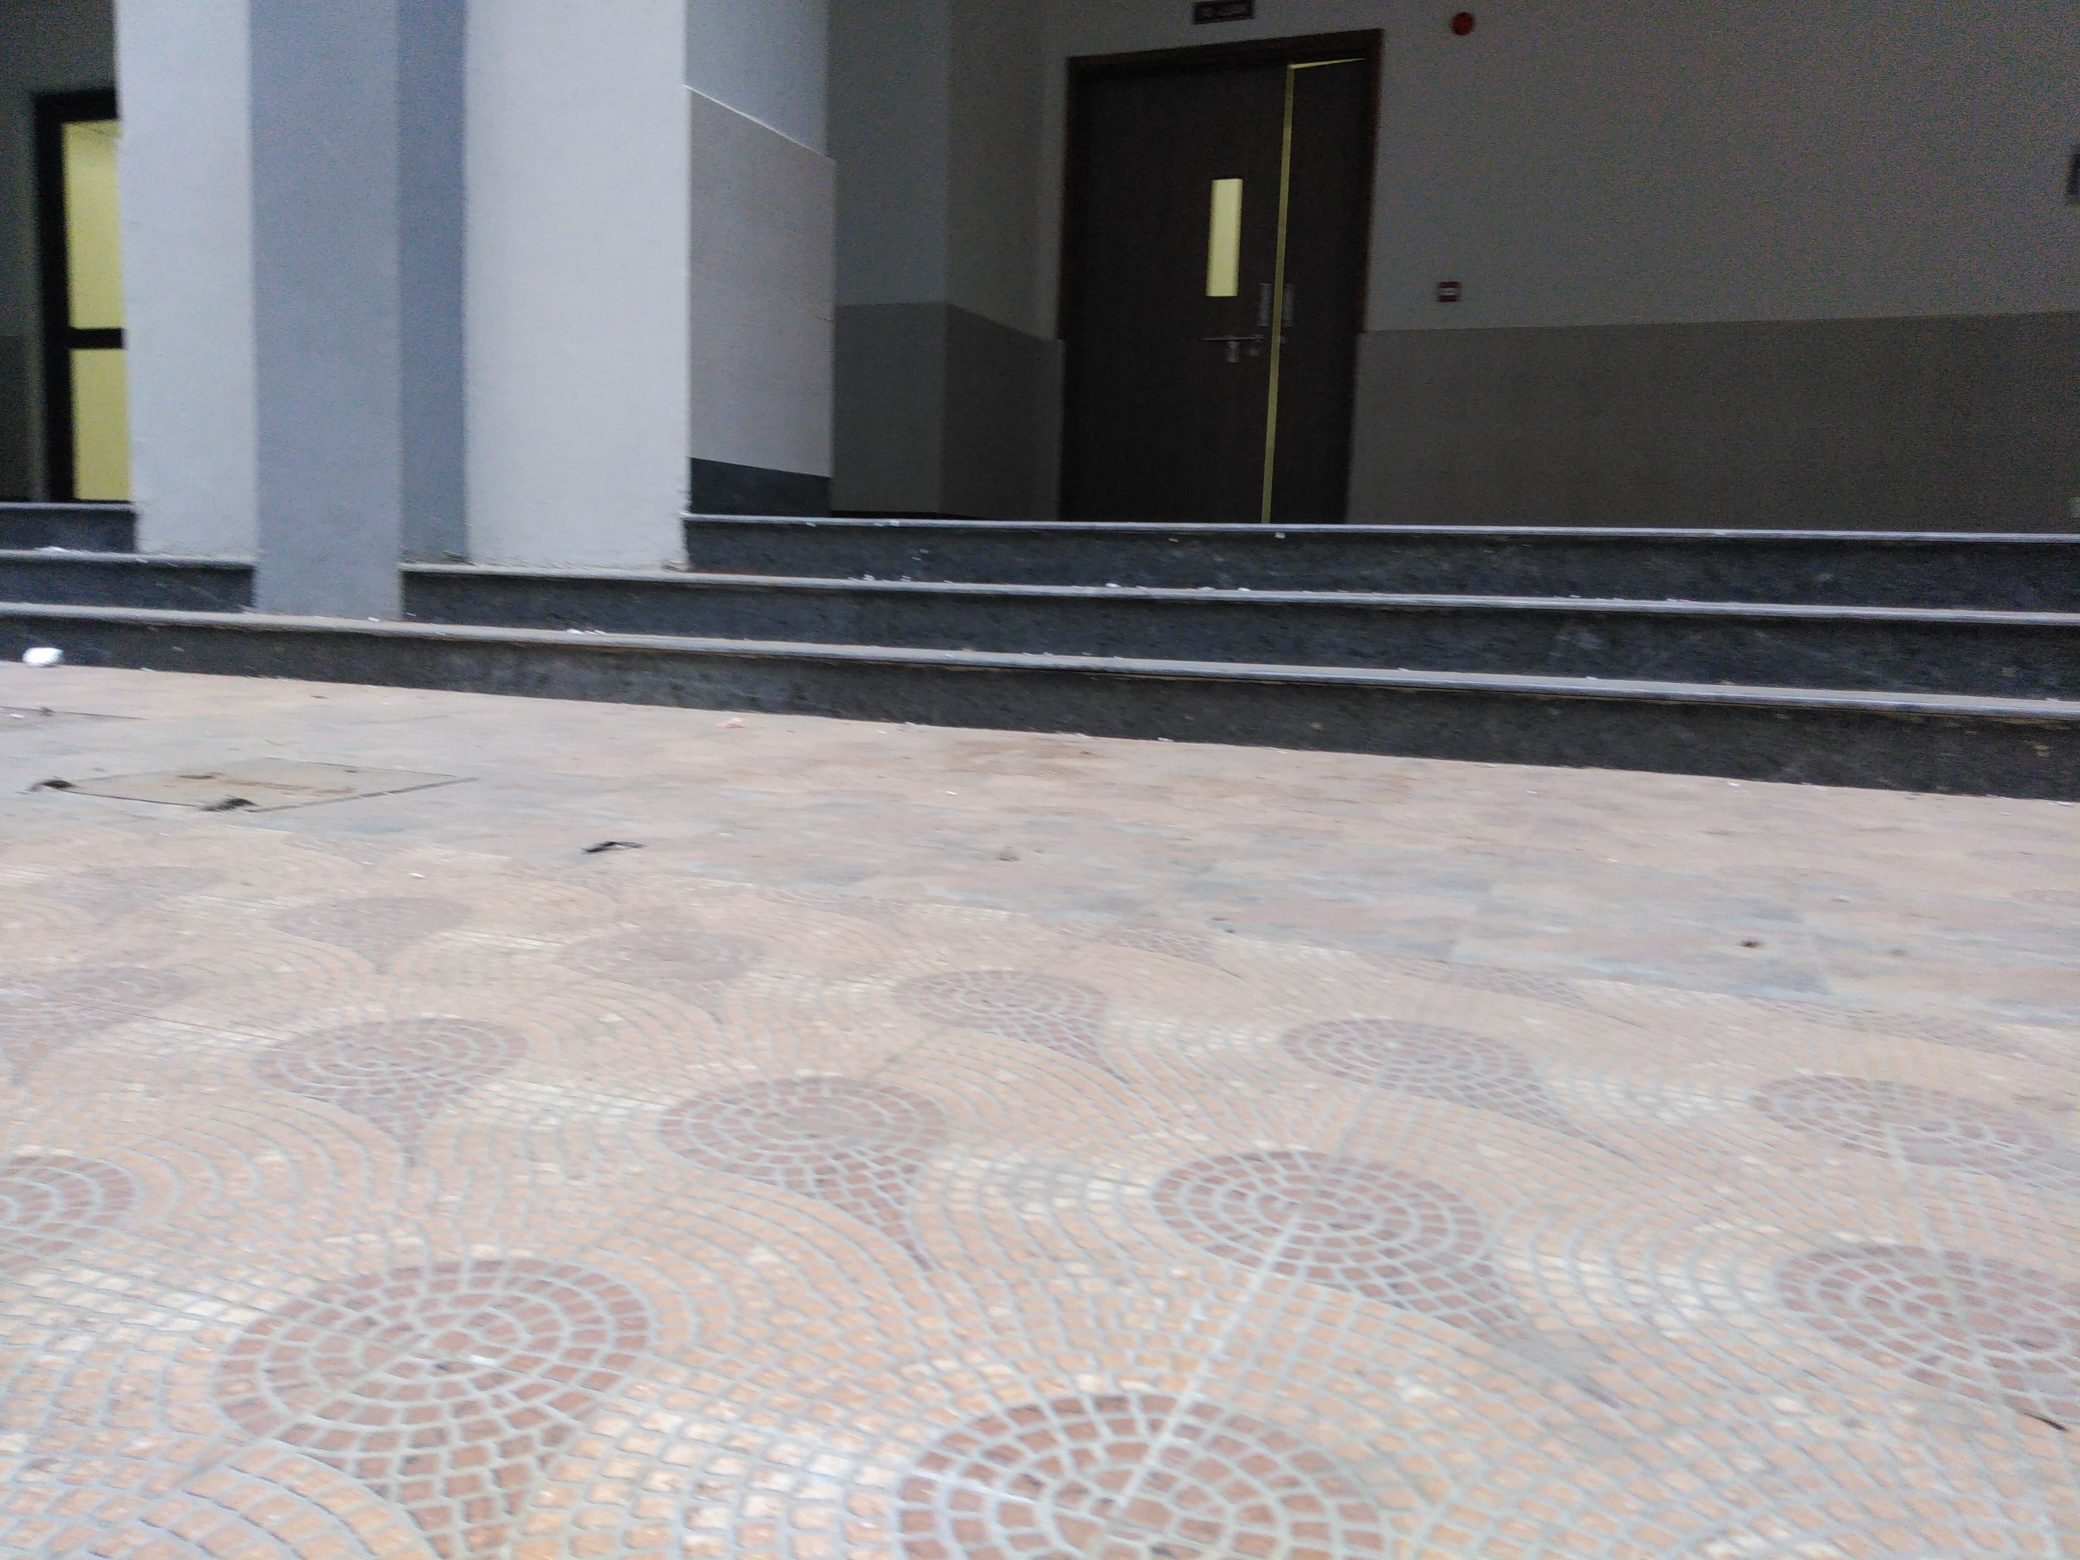stairs_up: (441, 524, 2065, 716), (2, 501, 182, 669)
